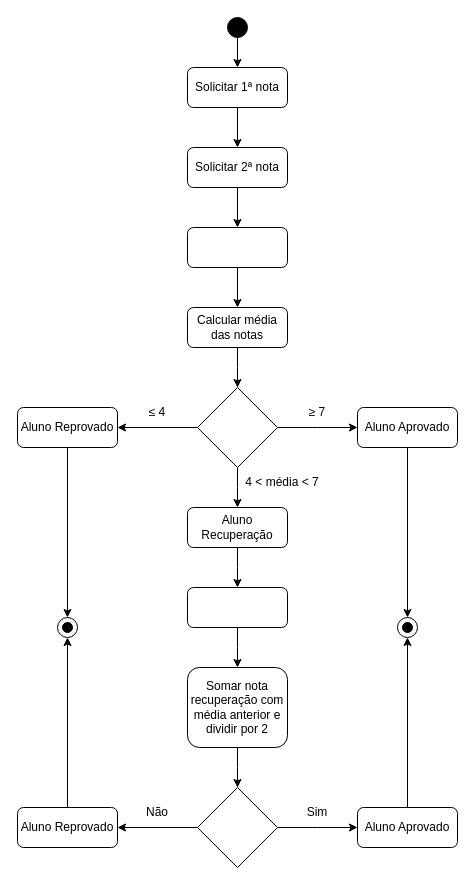
This 475x885 diagram has some shape labels left out. Each missing label, with the centre of its shape:
"Média" goes at (237,427).
"Média ≥ 5" goes at (237,827).
"Solicitar 3ª nota" goes at (237,247).
"Solicitar nota da recuperação" goes at (237,607).
